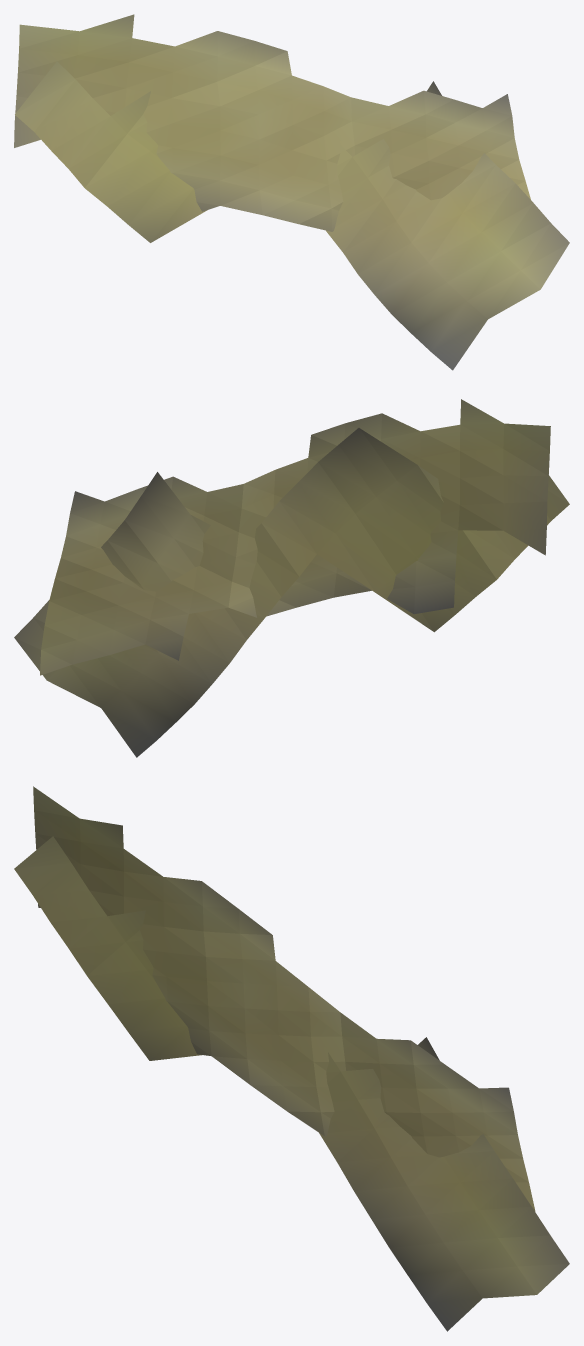
File: entity-floor-marking-19.glb
3 renders of one model, top to bottom at view 1: azimuth 30°, elevation 25°; view 2: azimuth 150°, elevation 25°; view 3: azimuth 330°, elevation 25°, orthographic.
Parts seen in each view (by area): view 1: geometry_0; view 2: geometry_0; view 3: geometry_0.
Boxes of the visible parts, left/top/right/bottom form: geometry_0: left=14, top=14, right=569, bottom=370; geometry_0: left=14, top=399, right=569, bottom=757; geometry_0: left=14, top=786, right=569, bottom=1331.
Bounding box in the file's own units: 0.2074 × 0.1577 × 0.012.
